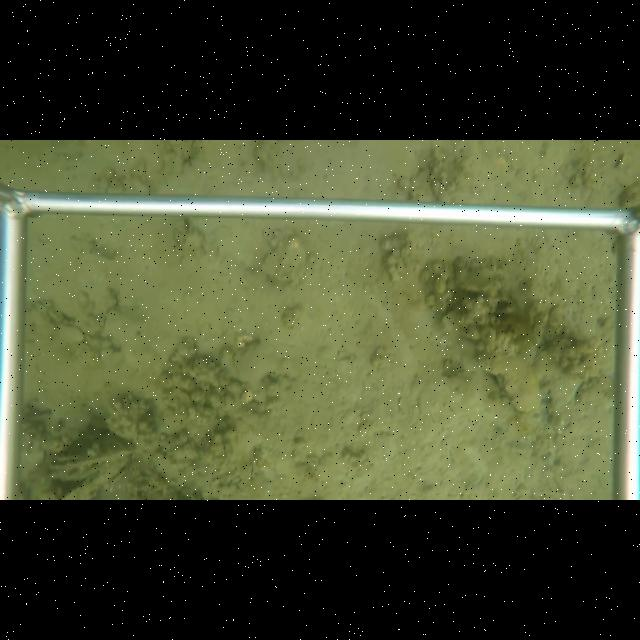Oyster-Closed: (478, 350, 545, 419), (259, 234, 315, 297)
